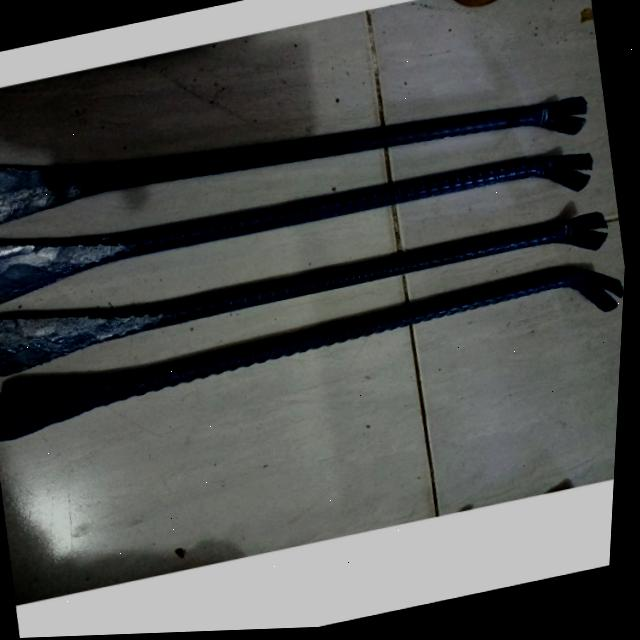crow bar: (0, 262, 628, 446), (0, 208, 622, 381), (0, 148, 603, 307), (0, 93, 593, 226)
